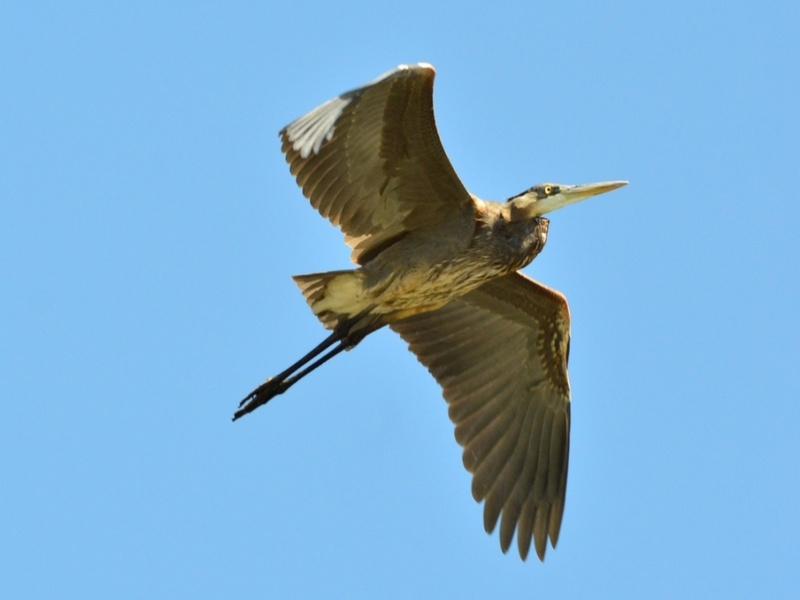heron: (222, 57, 650, 565)
